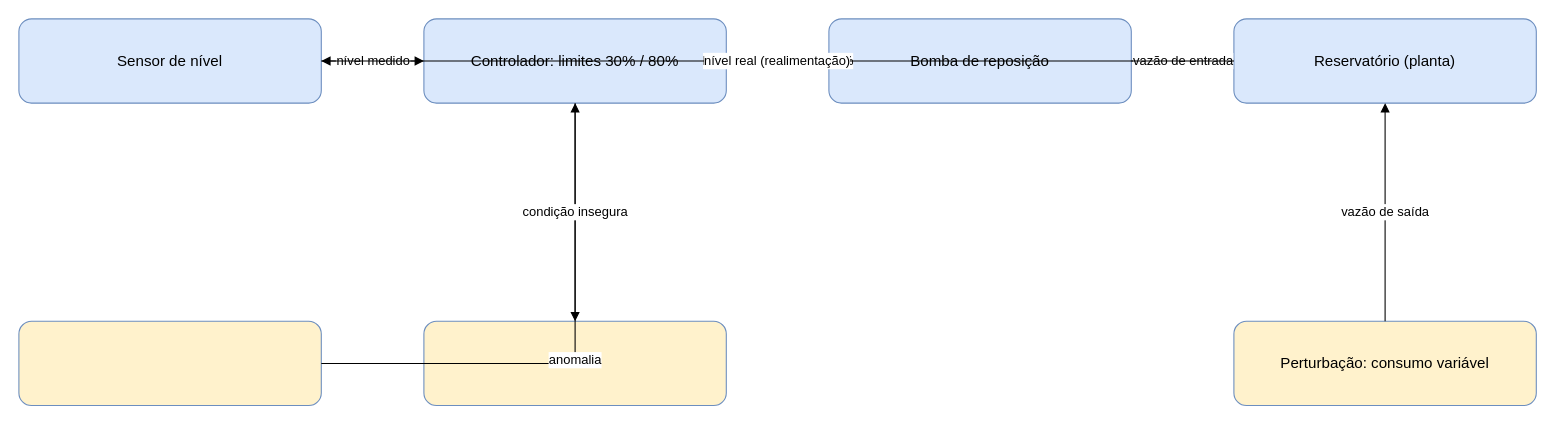
This 1555x424 diagram has some shape labels left out. Here are the shapes that lost their labels. From the top down, the centre of each, then its label:
the point at 169,363: Falha: sensor inválido / nível alto-alto
the point at 574,363: Segurança: desligar bomba e alarmar
